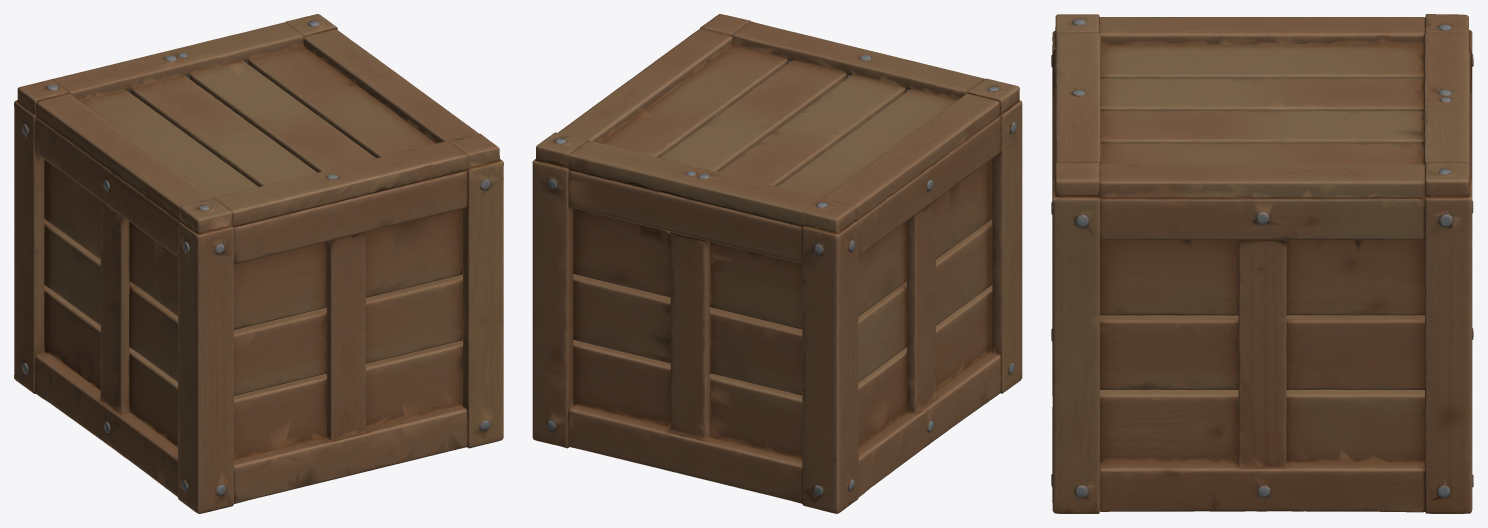
The model's file is crate.glb.
3 views of the same model, side by side, from view 1: azimuth 30°, elevation 25°; view 2: azimuth 150°, elevation 25°; view 3: azimuth 270°, elevation 25° (orthographic). The views are drawn at different scales.
Parts seen in each view (by area): view 1: geometry_0; view 2: geometry_0; view 3: geometry_0.
Part boxes in pixels (x1,y1,x2,y2): geometry_0: (14, 14, 503, 513); geometry_0: (532, 14, 1022, 513); geometry_0: (1051, 14, 1473, 513).
Bounding box in the file's own units: 0.7678 × 0.6981 × 0.8.
1 material, 1 textured.
